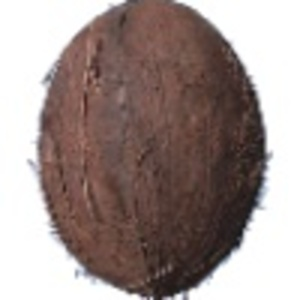coco: (31, 1, 271, 300)
